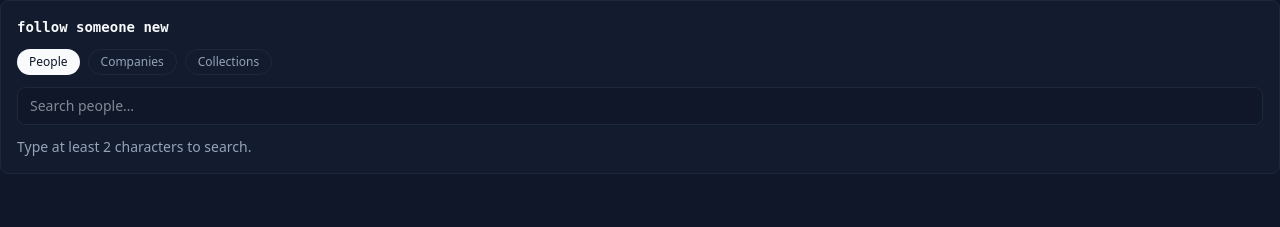
Test: FollowEntitySearch › links a person result to their page, and leaves the other two plain
Type "nolan" into the search field at (640, 106), box top-left (17, 87), bottom-right (1263, 125)
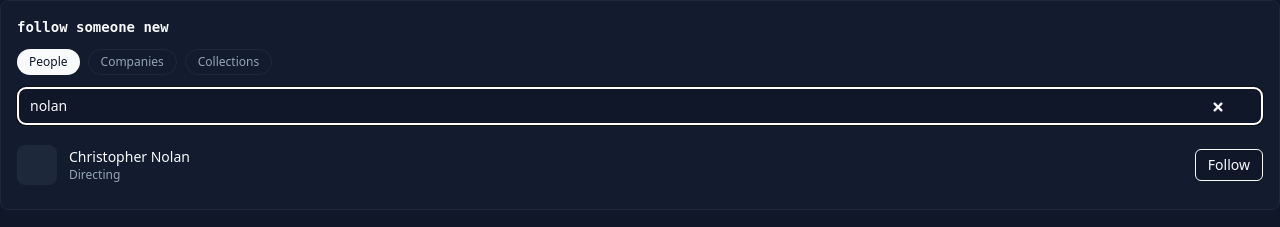
Click the tab "Companies" at (132, 62), box top-left (88, 49), bottom-right (177, 75)
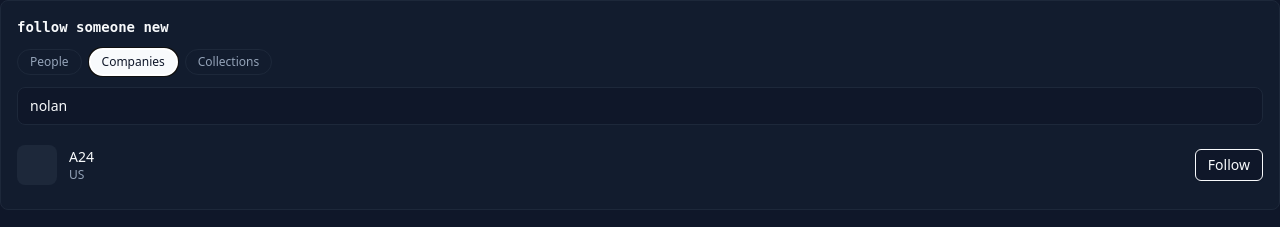
Result: the text "A24" is shown at top-left (69, 147), bottom-right (94, 166)
